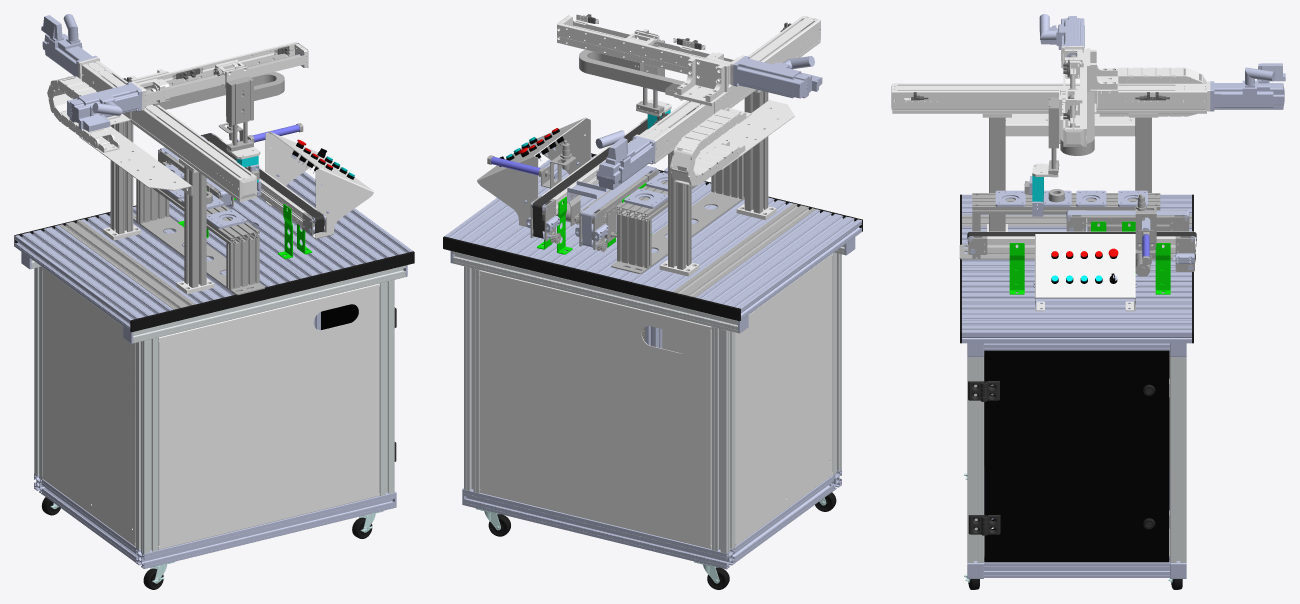
The picture shows the model from 3 angles, left to right: view 1: azimuth 30°, elevation 25°; view 2: azimuth 150°, elevation 25°; view 3: azimuth 270°, elevation 25°; orthographic projection. The views are drawn at different scales.
Visible parts, largest first — view 1: inst_1829388, inst_1829402, inst_1829426, inst_1829384, inst_1829378, inst_1828905, inst_1829429, inst_1829382, inst_1829377, inst_1829427, inst_1829430, inst_1829256 (+28 smaller); view 2: inst_1829389, inst_1829402, inst_1829426, inst_1829385, inst_1829380, inst_1828905, inst_1829427, inst_1829381, inst_1829386, inst_1829215, inst_1829443, inst_1829234 (+28 smaller); view 3: inst_1829404, inst_1829430, inst_1828905, inst_1829245, inst_1829429, inst_1829386, inst_1829383, inst_1829382, inst_1829258, inst_1829199, inst_1829277, inst_1829428 (+18 smaller).
Boxes of the visible parts, x1,y1,x2,y2 form: inst_1829388: (158,283,379,549); inst_1829402: (42,267,135,546); inst_1829426: (15,225,173,330); inst_1829384: (136,337,158,553); inst_1829378: (135,492,394,568); inst_1828905: (265,131,374,238); inst_1829429: (227,195,358,277); inst_1829382: (379,280,394,496); inst_1829377: (133,265,405,343); inst_1829427: (81,206,241,304); inst_1829430: (286,171,413,264); inst_1829256: (82,64,243,198); inst_1829389: (479,270,711,548); inst_1829402: (735,253,832,545); inst_1829426: (696,209,861,320); inst_1829385: (711,327,735,553); inst_1829380: (464,489,735,569); inst_1828905: (477,117,590,227); inst_1829427: (616,197,792,291); inst_1829381: (452,251,737,332); inst_1829386: (464,266,480,492); inst_1829215: (557,23,730,84); inst_1829443: (673,203,815,297); inst_1829234: (733,56,822,98); inst_1829404: (984,350,1169,562); inst_1829430: (962,306,1191,343); inst_1828905: (1035,234,1135,311); inst_1829245: (892,90,1206,109); inst_1829429: (962,279,1191,305); inst_1829386: (1170,357,1186,562); inst_1829383: (984,556,1169,577); inst_1829382: (967,357,983,562); inst_1829258: (1210,63,1285,111); inst_1829199: (1005,113,1135,136); inst_1829277: (972,193,1160,214); inst_1829428: (962,253,1191,279).
Bounding box in the file's own units: 0.7919 × 1.22 × 0.9437.
